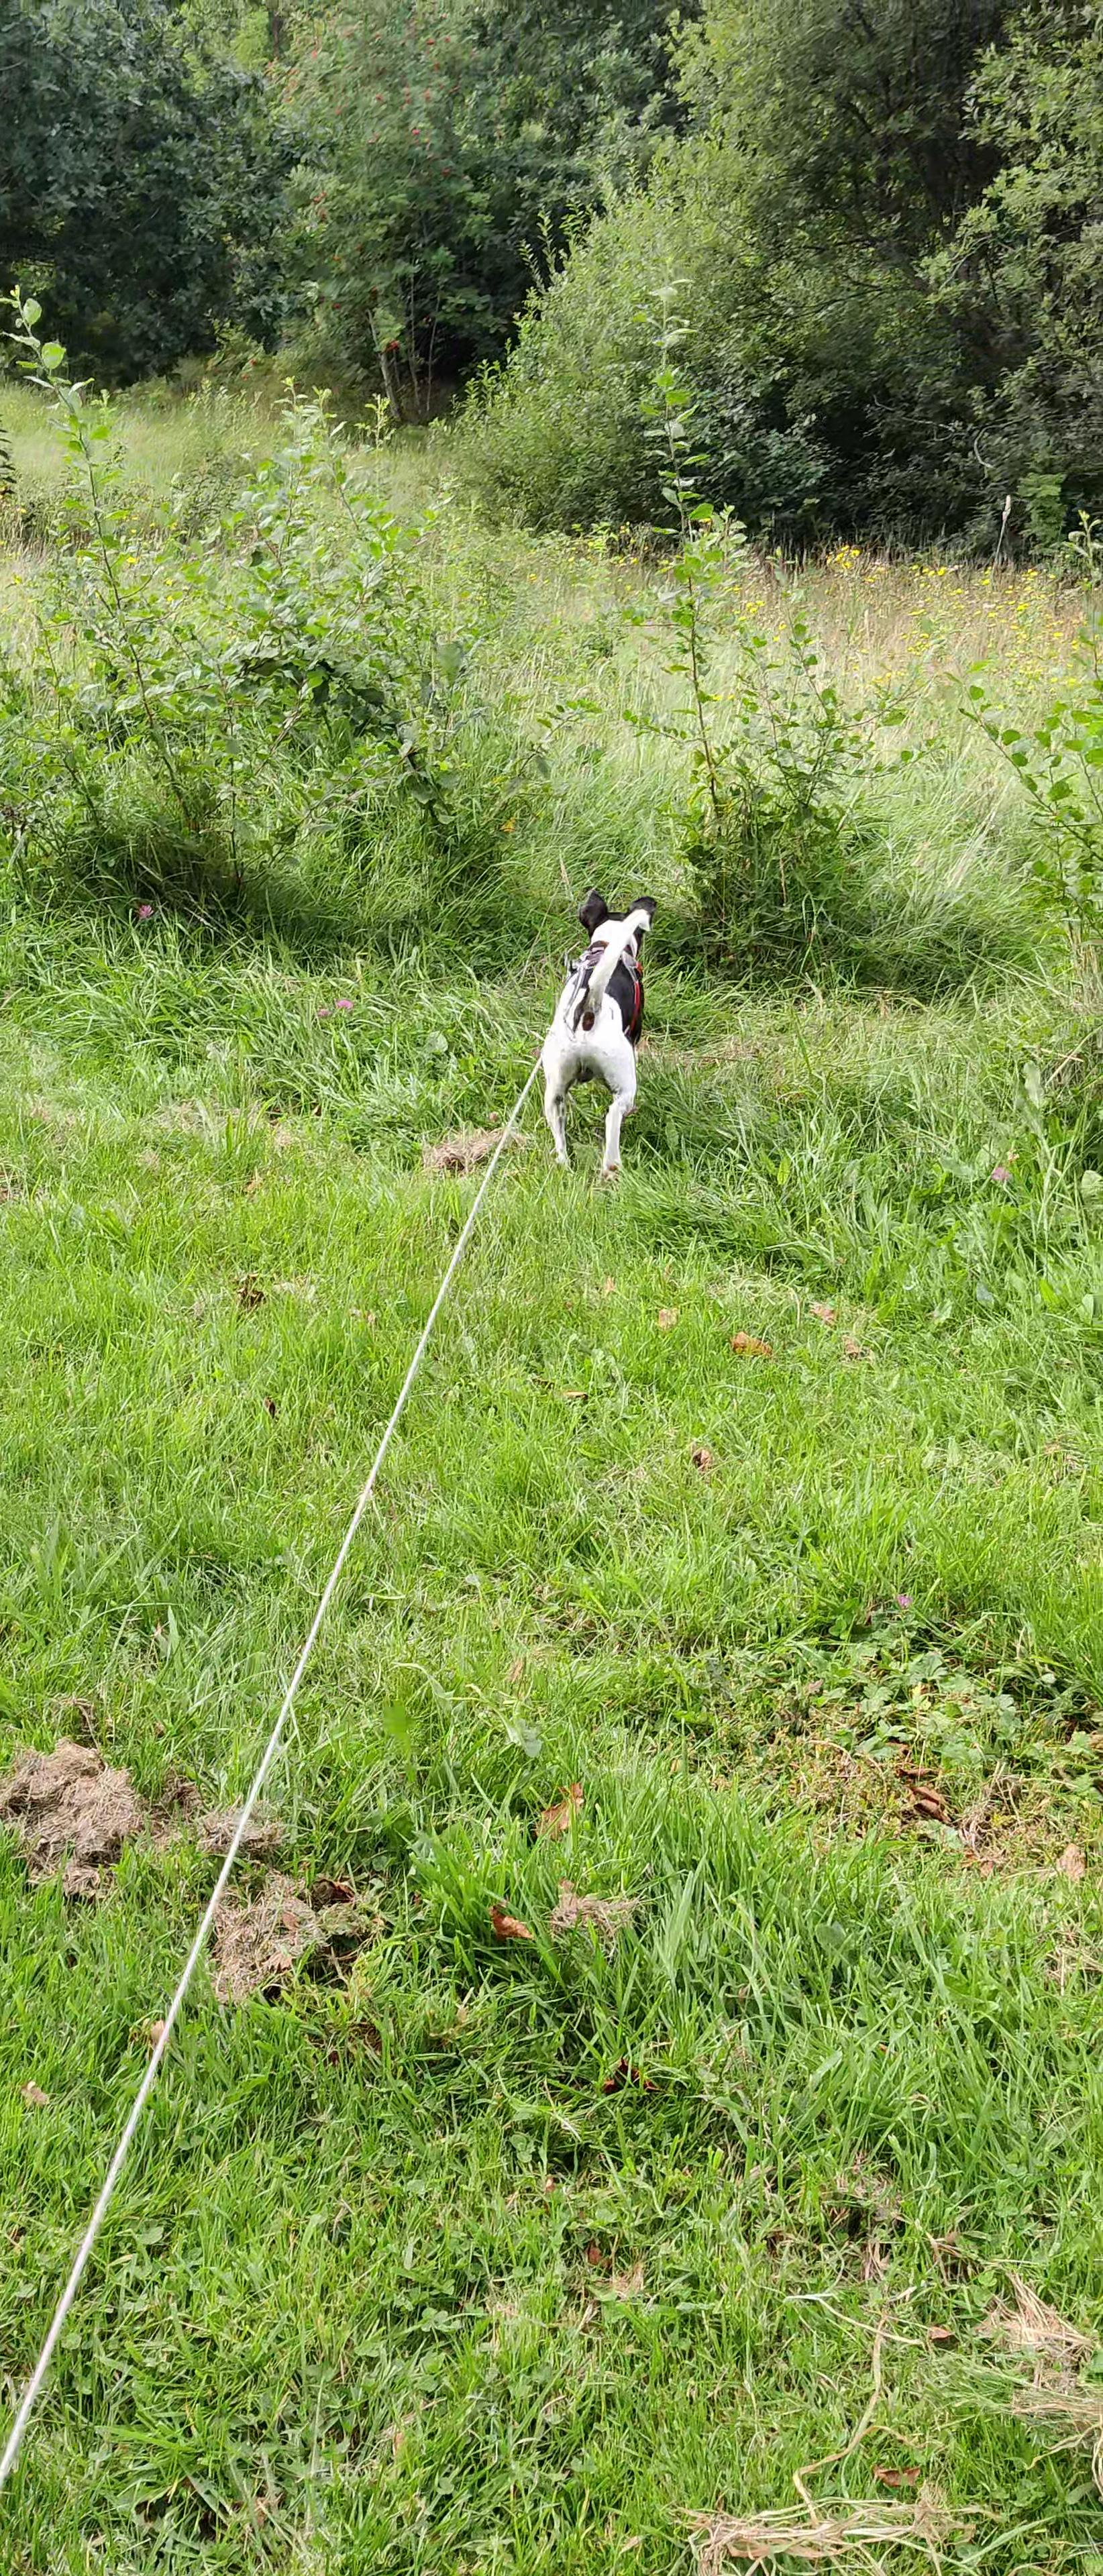Dog: (533, 881, 662, 1175)
